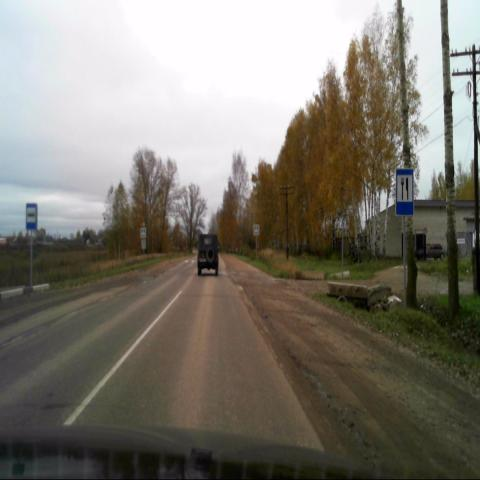7_7: (396, 169, 414, 215)
